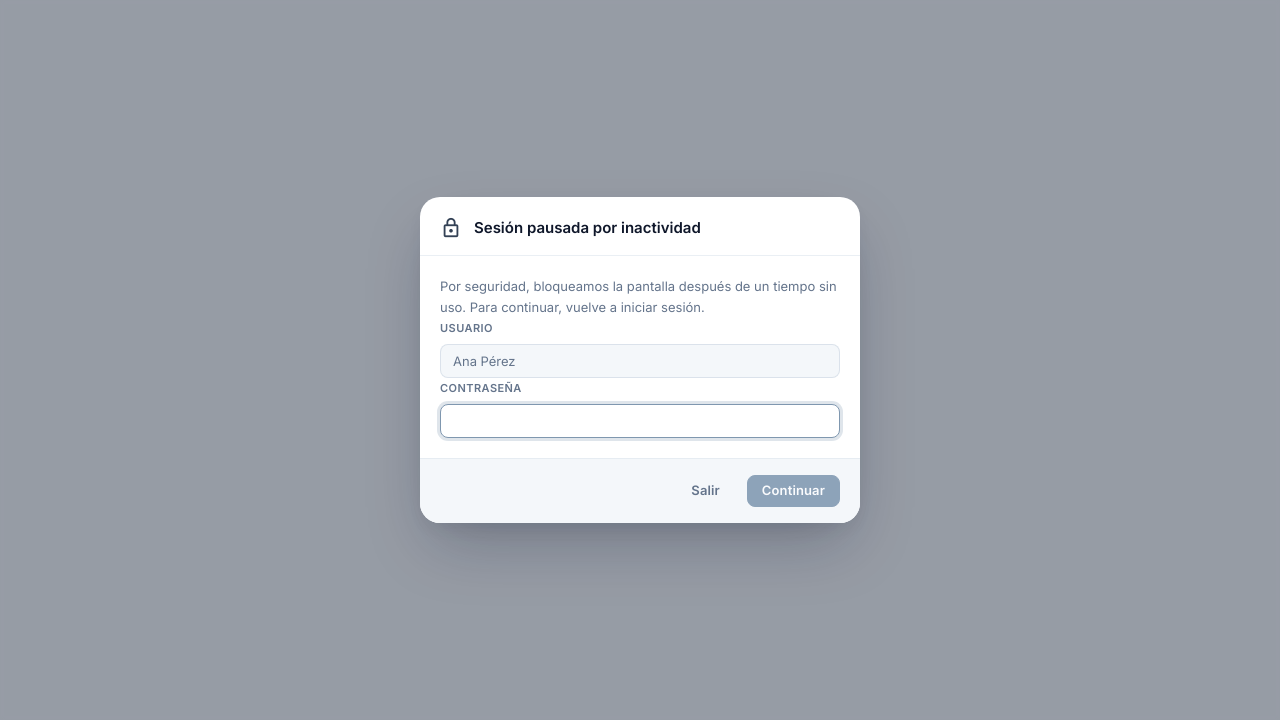
Test case: SessionLockOverlay › con sesión inválida (refresh vencido): oculta el campo de contraseña y ofrece ir al login
In the password field labelled "Contraseña": (640, 421) [440,404,840,438], type "algo"
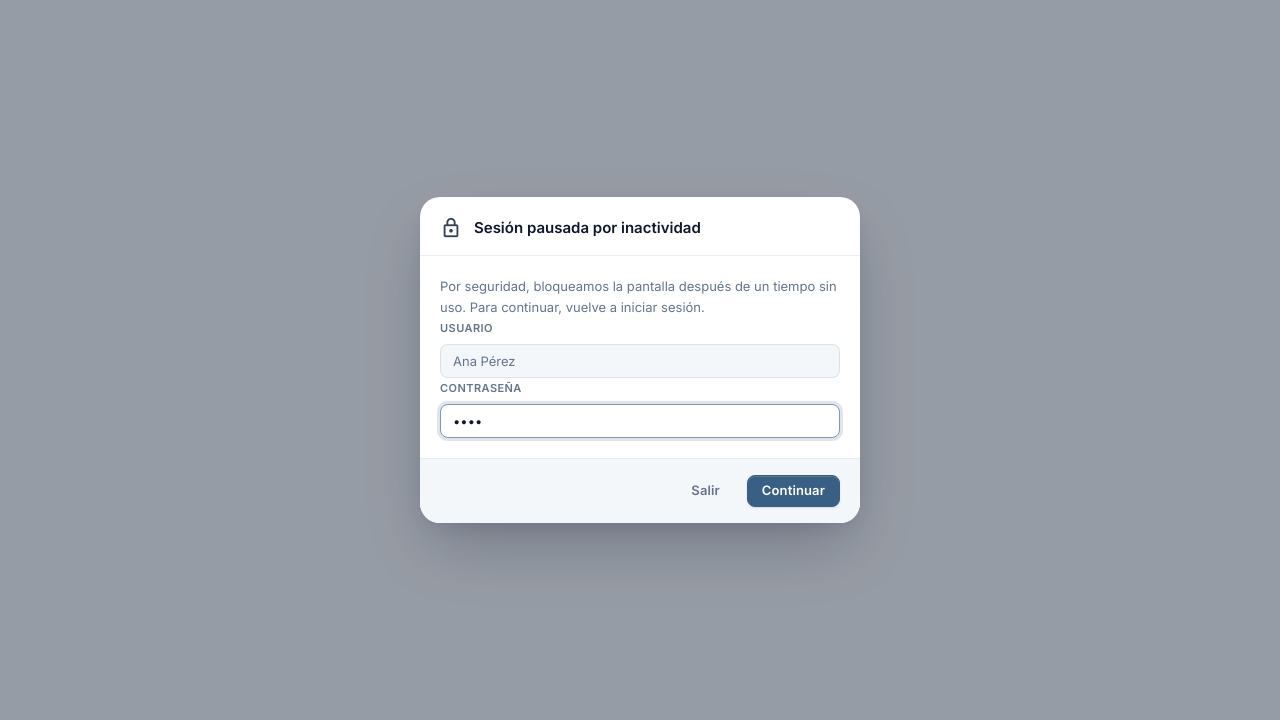
Click the button "Continuar": (793, 491) [747,475,840,507]
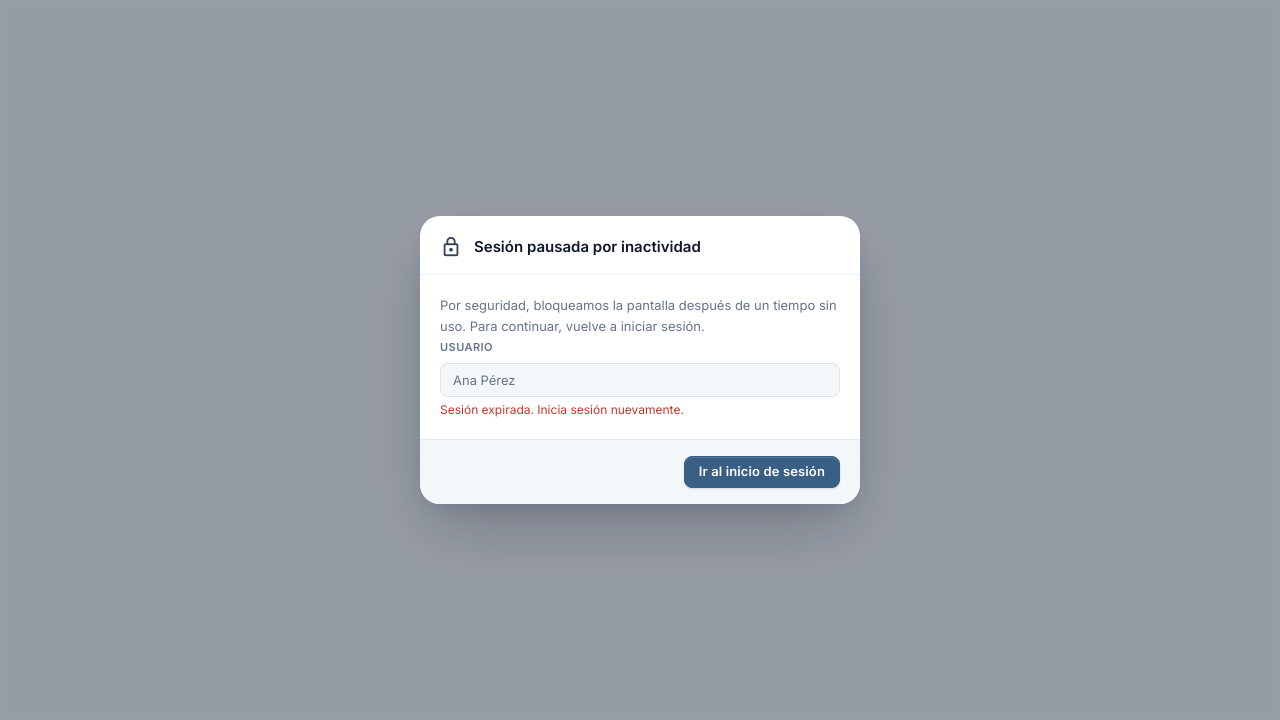
Result: the button "Ir al inicio de sesión" is shown at [684,456,840,488]
Result: the text labelled "Contraseña" is gone
